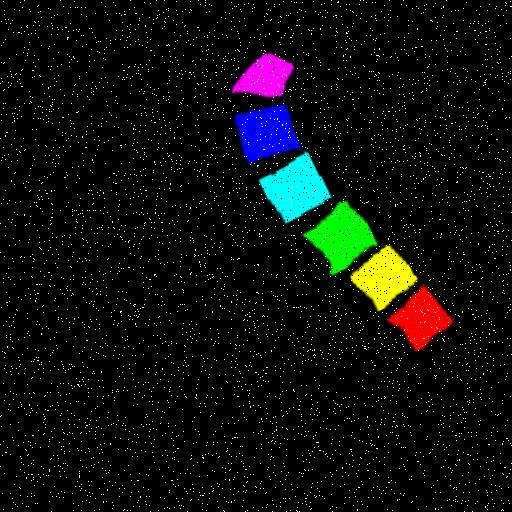L1: (379, 291, 445, 357)
L2: (344, 251, 410, 317)
L3: (297, 206, 370, 280)
L4: (255, 157, 324, 227)
L5: (230, 108, 296, 168)
S1: (228, 57, 290, 101)
